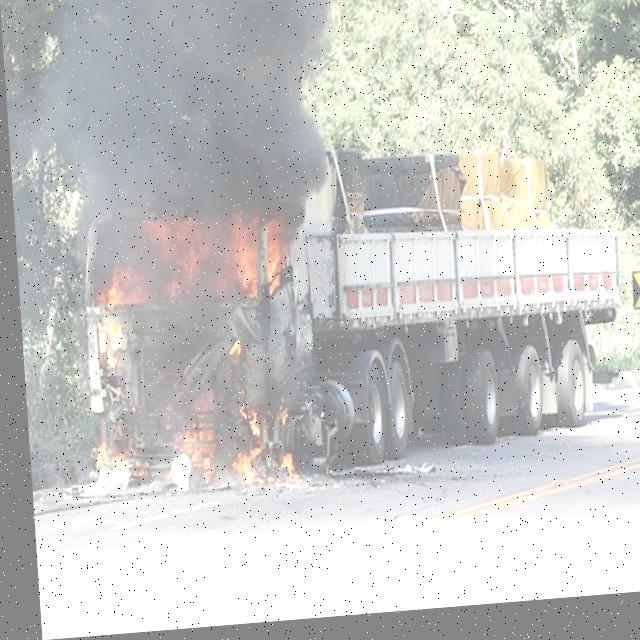Fire: (81, 209, 282, 316), (158, 392, 211, 488), (76, 434, 131, 474), (222, 451, 254, 491), (273, 453, 294, 491), (233, 408, 255, 444)
